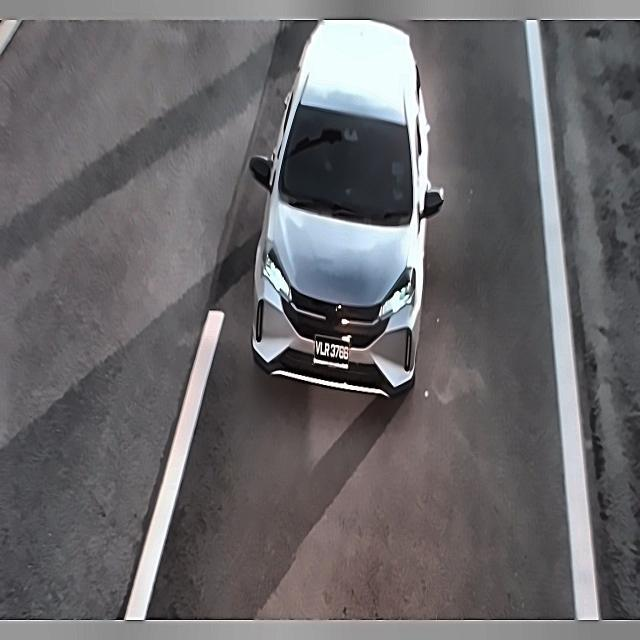car: (311, 323, 353, 374)
